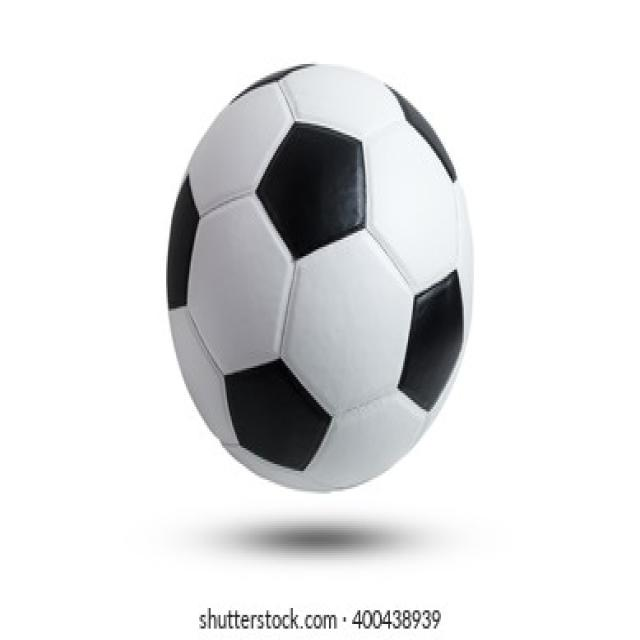soccer ball: (161, 61, 472, 494)
